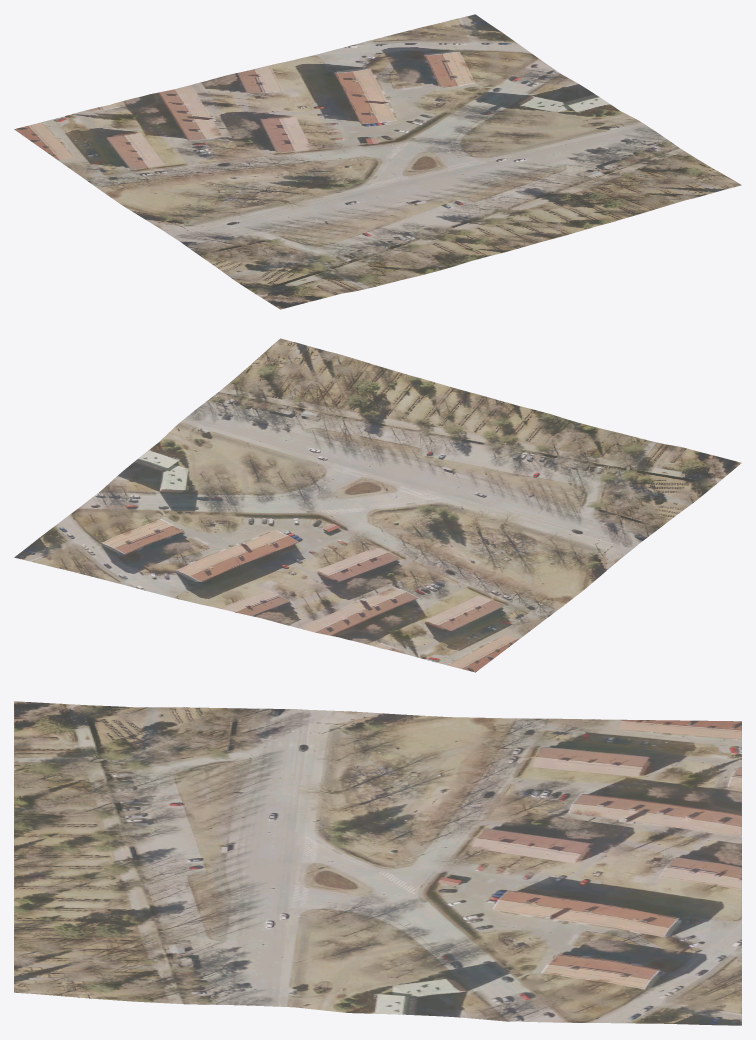
The model's file is CM_Terrain_24488820_6820613.fbx.
The picture shows the model from 3 angles, top to bottom: view 1: azimuth 30°, elevation 25°; view 2: azimuth 150°, elevation 25°; view 3: azimuth 270°, elevation 25°; orthographic projection. The views are drawn at different scales.
Visible parts, largest first — view 1: CM_Terrain_24488820_6820613_LOD0; view 2: CM_Terrain_24488820_6820613_LOD0; view 3: CM_Terrain_24488820_6820613_LOD0.
Boxes of the visible parts, box(x1,y1,x2,y2) form: CM_Terrain_24488820_6820613_LOD0: box(14, 14, 741, 309); CM_Terrain_24488820_6820613_LOD0: box(14, 338, 741, 672); CM_Terrain_24488820_6820613_LOD0: box(14, 701, 741, 1025).
Size of what is drawn, in the model's own units: 205 by 11.25 by 205.
